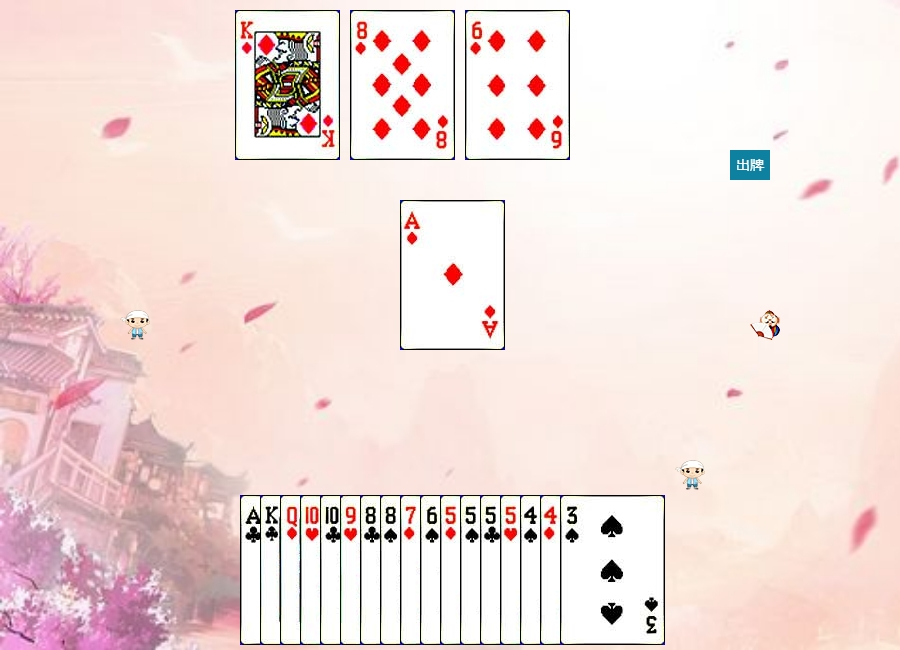10~2: (320, 495, 425, 645)
10~3: (300, 495, 405, 645)
12~1: (280, 495, 385, 645)
13~1: (235, 10, 340, 160)
13~2: (260, 495, 365, 645)
14~1: (400, 200, 505, 350)
14~2: (240, 495, 345, 645)
3~4: (560, 495, 665, 645)
4~1: (540, 495, 645, 645)
4~4: (520, 495, 625, 645)
5~1: (440, 495, 545, 645)
5~2: (480, 495, 585, 645)
5~3: (500, 495, 605, 645)
5~4: (460, 495, 565, 645)
6~1: (465, 10, 570, 160)
6~4: (420, 495, 525, 645)
7~1: (400, 495, 505, 645)
8~1: (350, 10, 455, 160)
8~2: (360, 495, 465, 645)
8~4: (380, 495, 485, 645)
9~3: (340, 495, 445, 645)
